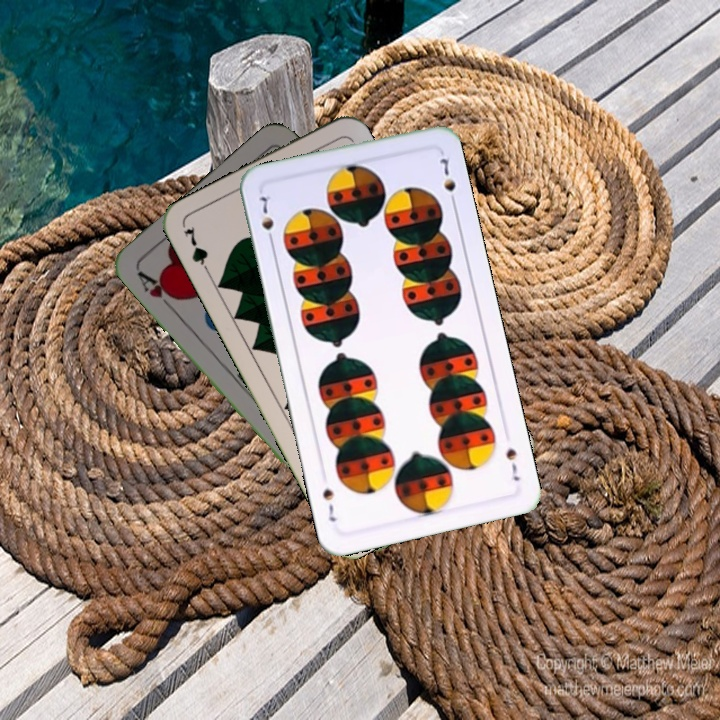G7: (180, 222, 214, 279)
HA: (132, 266, 182, 314)
S7: (256, 192, 277, 248), (502, 444, 523, 484)
